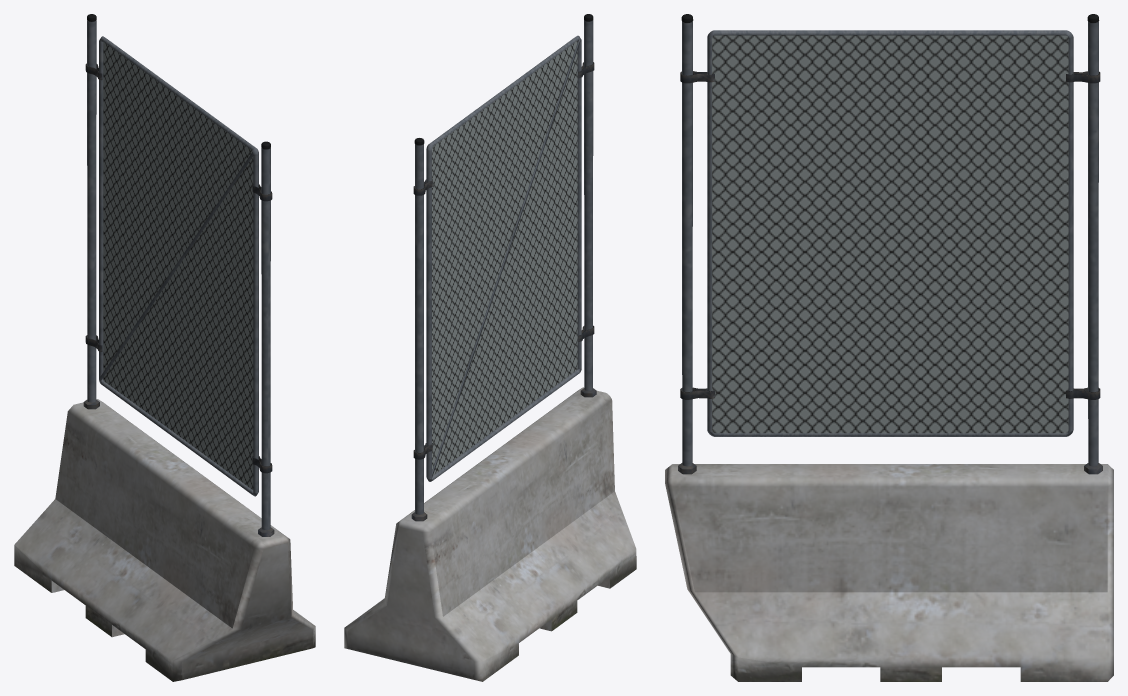
File: Fence_A_C.fbx
3 views of the same model, side by side, from view 1: azimuth 30°, elevation 25°; view 2: azimuth 150°, elevation 25°; view 3: azimuth 270°, elevation 25° (orthographic). The views are drawn at different scales.
Visible parts, largest first — view 1: Fence_A_C_LOD0, Fence_A_C_Wire_LOD0; view 2: Fence_A_C_LOD0, Fence_A_C_Wire_LOD0; view 3: Fence_A_C_Wire_LOD0, Fence_A_C_LOD0.
Part boxes in pixels (x1,y1,x2,y2): Fence_A_C_LOD0: [14, 14, 315, 681]; Fence_A_C_Wire_LOD0: [103, 42, 253, 489]; Fence_A_C_LOD0: [344, 14, 636, 681]; Fence_A_C_Wire_LOD0: [432, 41, 577, 475]; Fence_A_C_Wire_LOD0: [712, 35, 1068, 433]; Fence_A_C_LOD0: [665, 14, 1113, 681].
Size of what is drawn, in the model's own units: 80 by 288 by 187.
